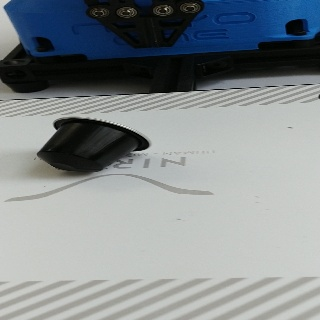capsule_10: (36, 116, 153, 171)
